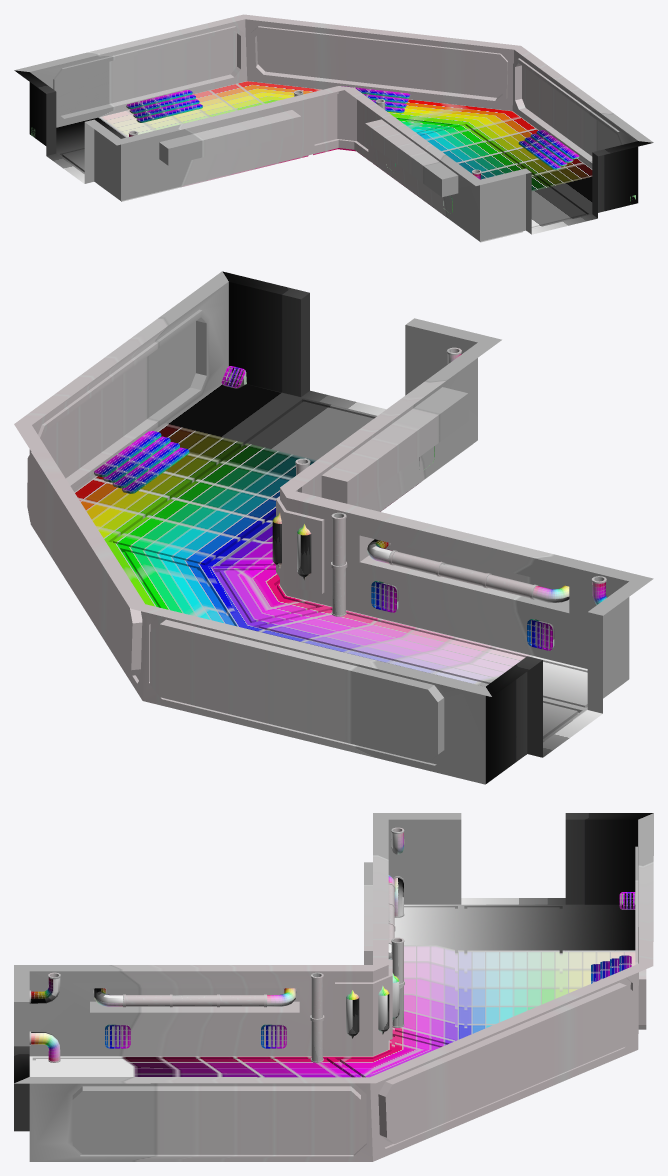
Rendered from HallwayCorner.fbx.
The picture shows the model from 3 angles, top to bottom: view 1: azimuth 30°, elevation 25°; view 2: azimuth 150°, elevation 25°; view 3: azimuth 270°, elevation 25°; orthographic projection. The views are drawn at different scales.
Parts seen in each view (by area): view 1: HallwayCorner.001; view 2: HallwayCorner.001; view 3: HallwayCorner.001.
Part boxes in pixels (x1,y1,x2,y2): HallwayCorner.001: (14,14,653,242); HallwayCorner.001: (14,271,653,784); HallwayCorner.001: (14,813,653,1161).
Bounding box in the file's own units: 2050 × 310 × 2050.
